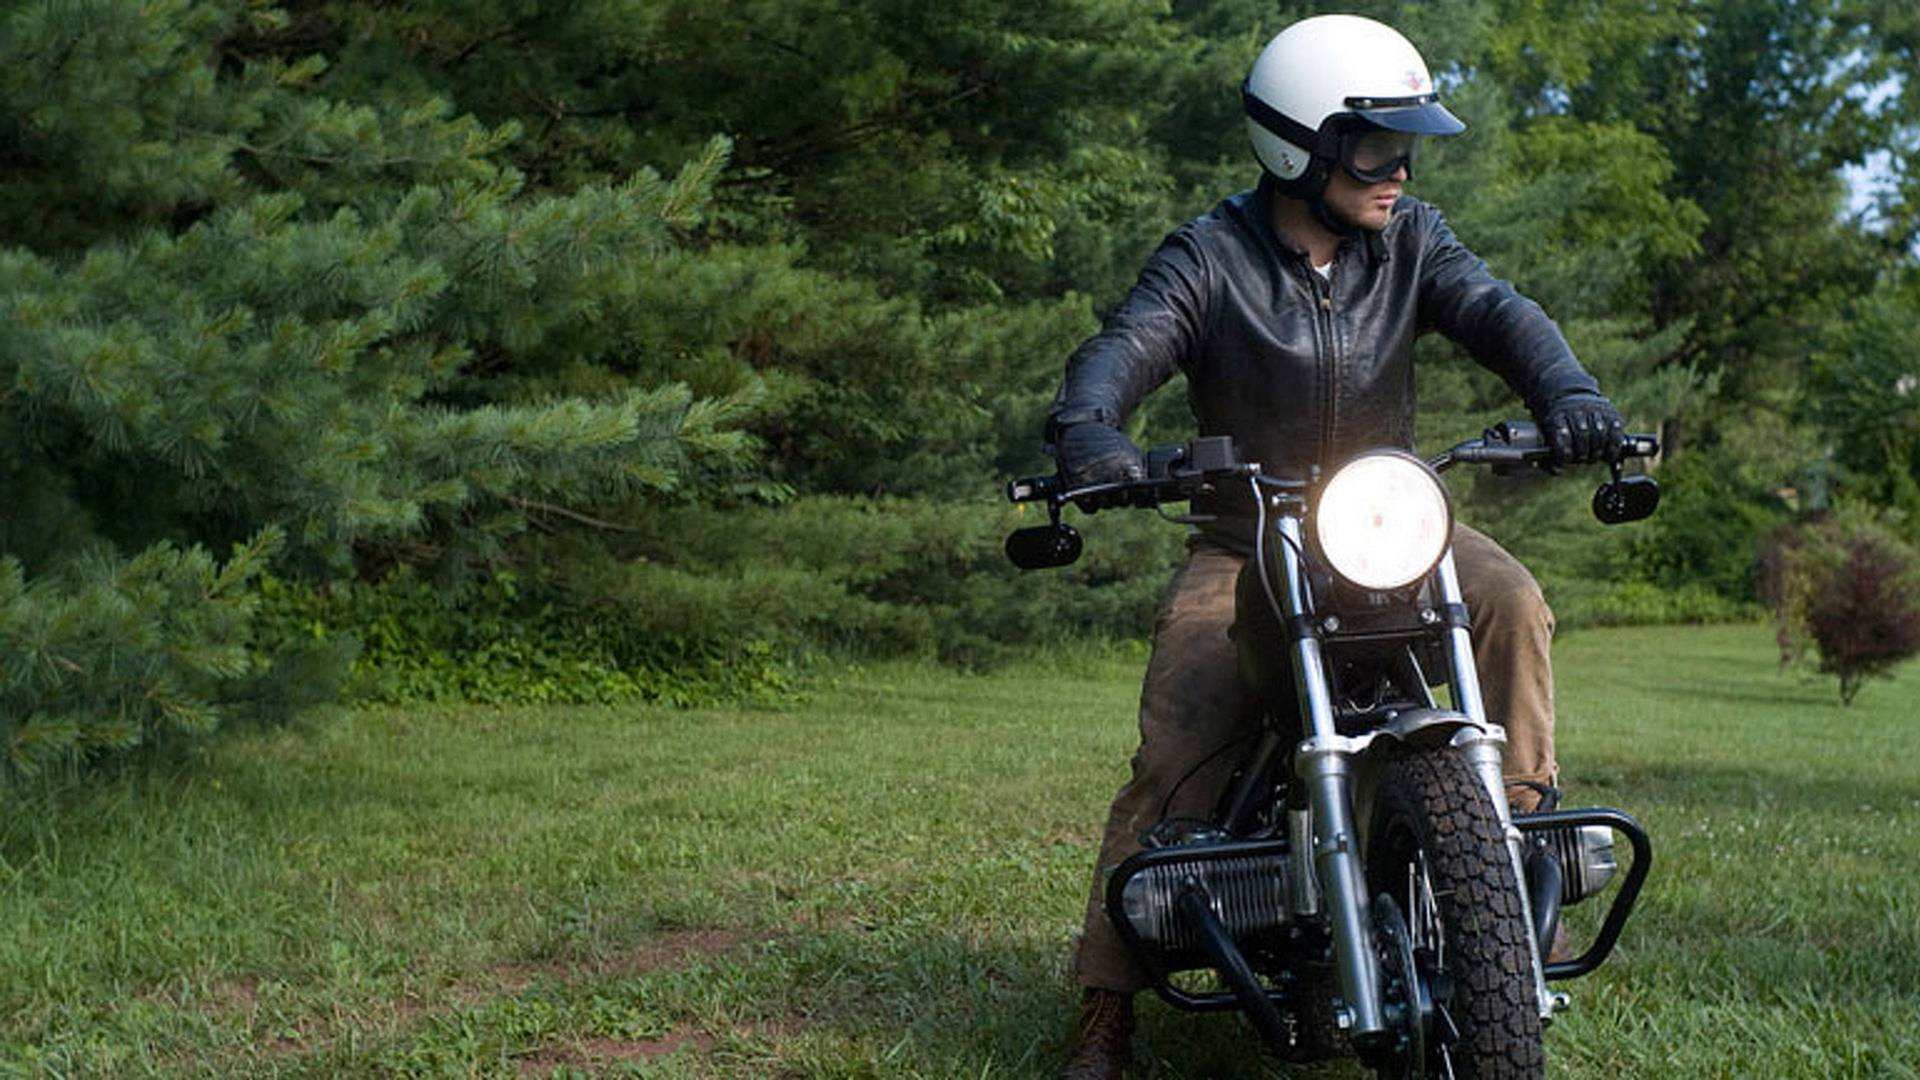helmet: (1216, 4, 1487, 233)
